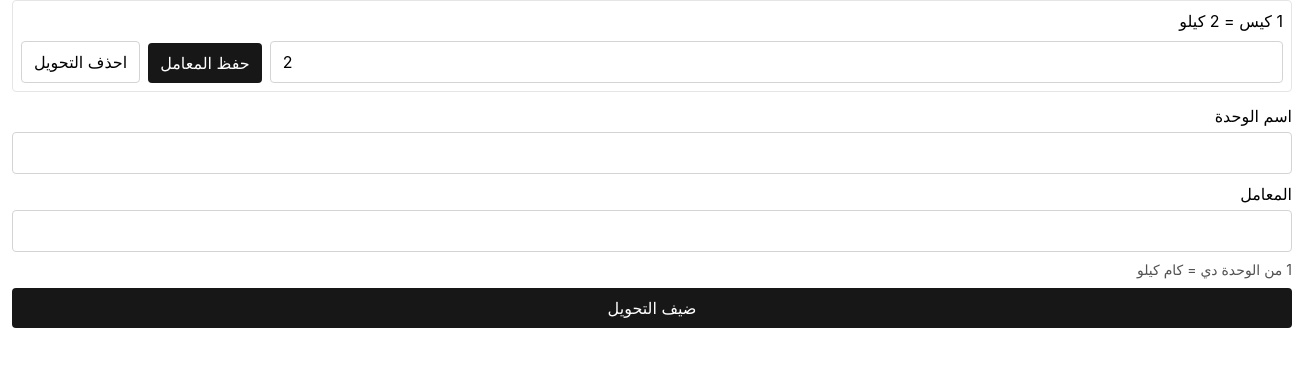
Test: ConversionsPanel › re-initializes the factor input when only the base unit changes
This screenshot has width=1304, height=377.
expect the text "1 كيس = 2 كيلو" is shown: met, box [1179, 11, 1283, 31]
Replace the text in the field named "معامل كيس" with "25": (776, 62) [270, 41, 1283, 83]
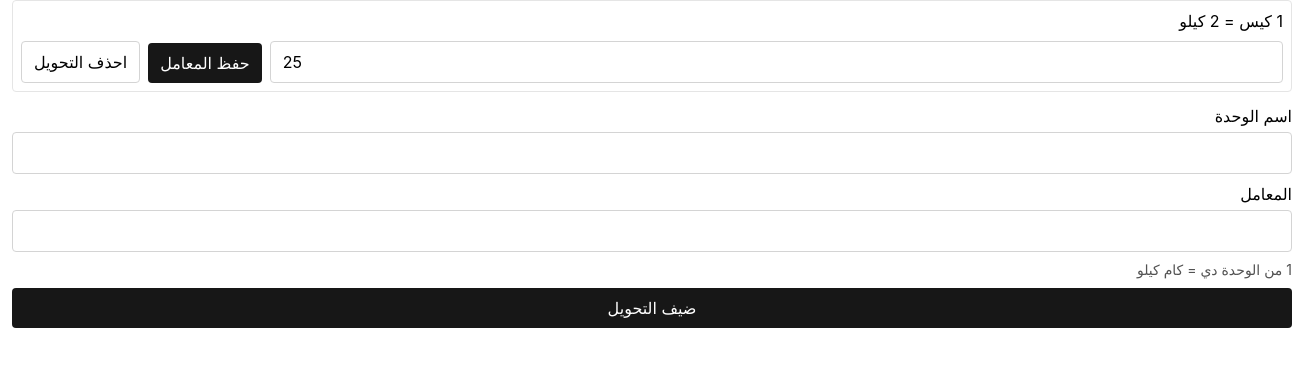
Click the button "حفظ المعامل": click(205, 63) [148, 43, 262, 83]
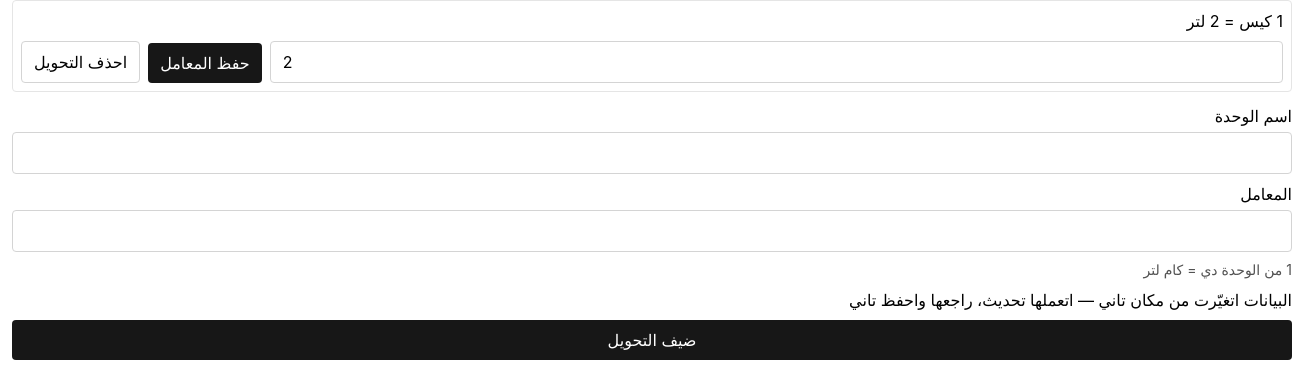
expect the text "1 كيس = 2 لتر" is shown: met, box [1187, 11, 1283, 31]
expect the field named "معامل كيس" holds "2": met, box [270, 41, 1283, 83]
